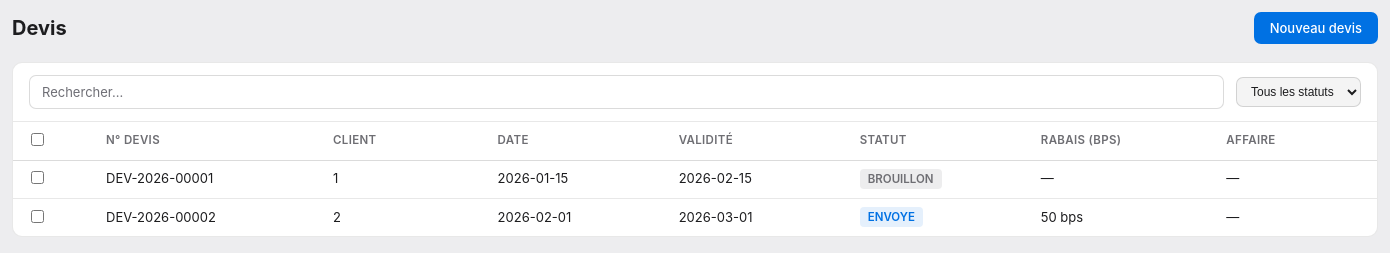
Test: R11 - Liste Devis › filtre les devis par statut
Expected: the text "DEV-2026-00001" is shown, [92, 160, 319, 198]
Select "ENVOYE" in the dropdown. click: (1298, 92)
box: [1236, 77, 1361, 107]
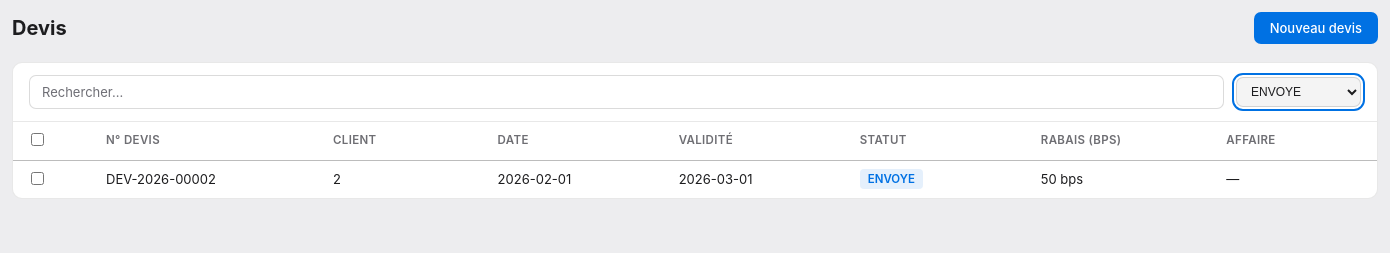
Expected: the text "DEV-2026-00001" is gone
Expected: the text "DEV-2026-00002" is shown, [92, 160, 319, 198]
